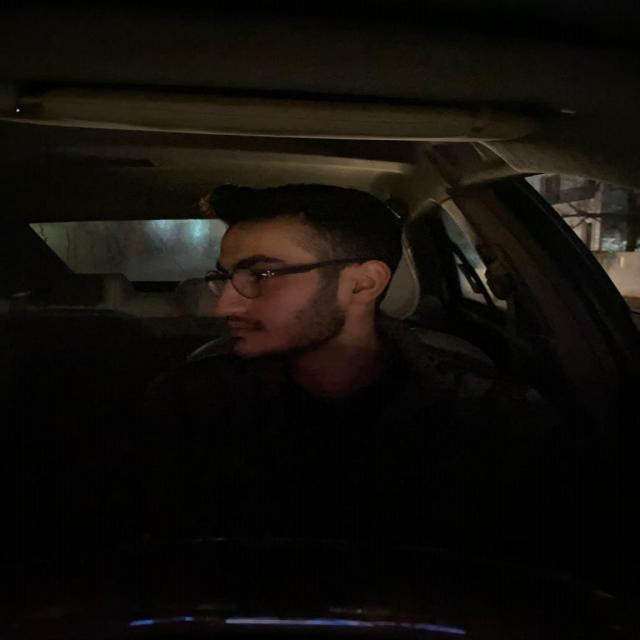LeftRight: (184, 178, 404, 417)
